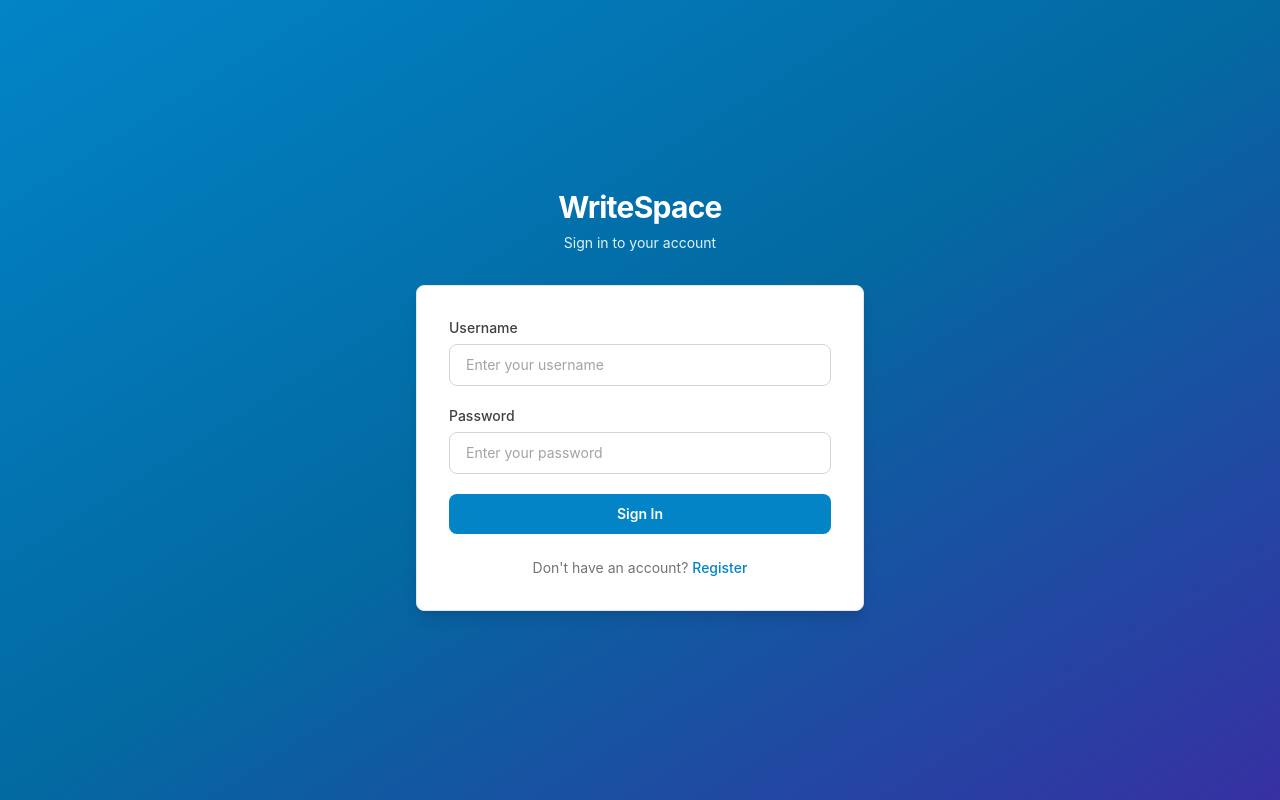
LoginPage › form validation › shows error when username is empty
Type "somepassword" into the password field labelled "Password" at x=640, y=453, box [449,432,831,474]
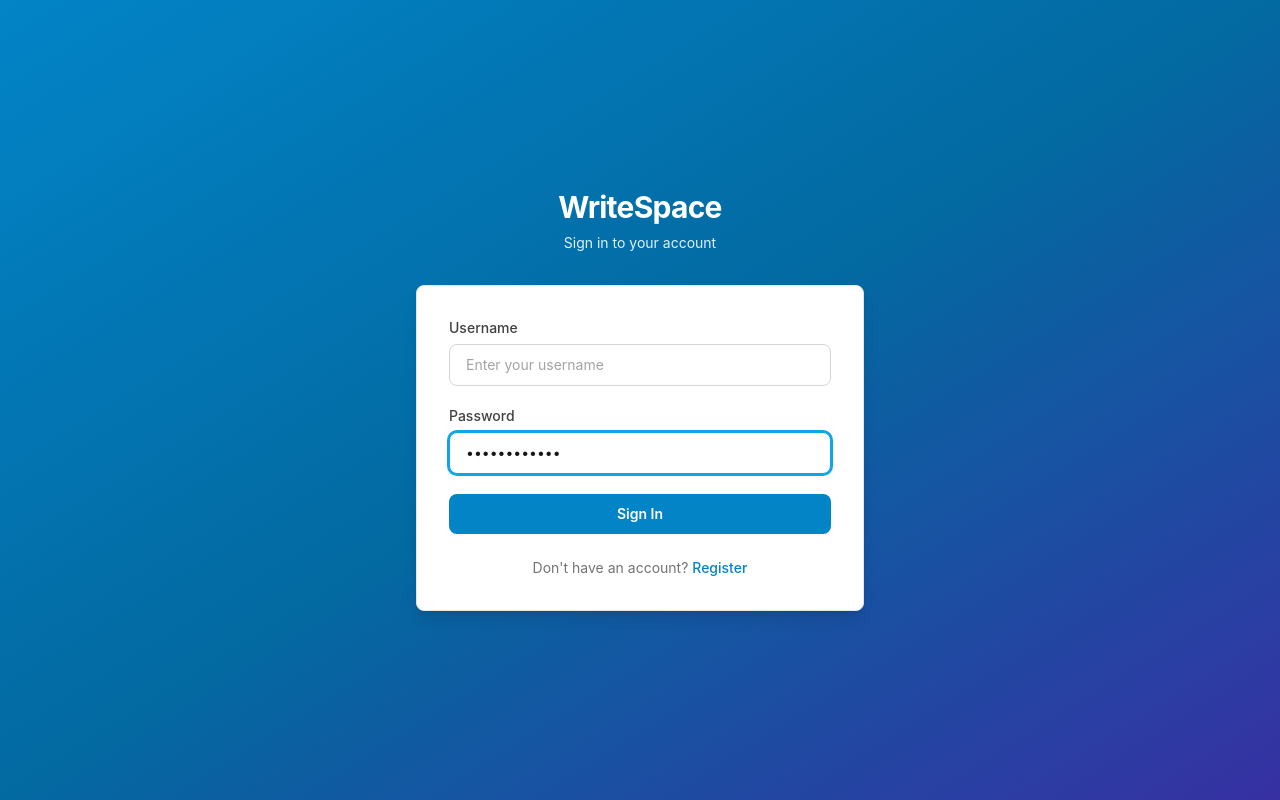
Click the button "Sign In" at x=640, y=514, box [449,494,831,534]
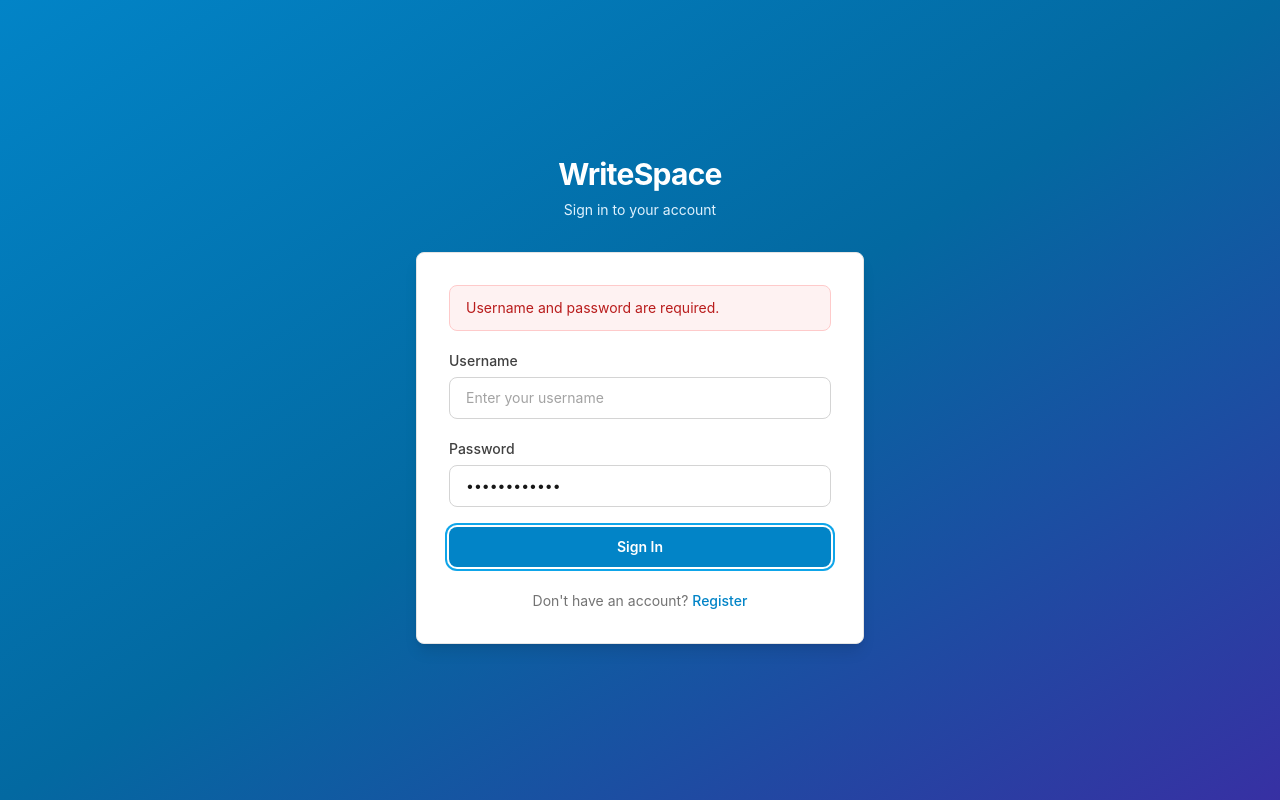
expect the text "Username and password are required." is shown: met, box [449,285,831,331]
